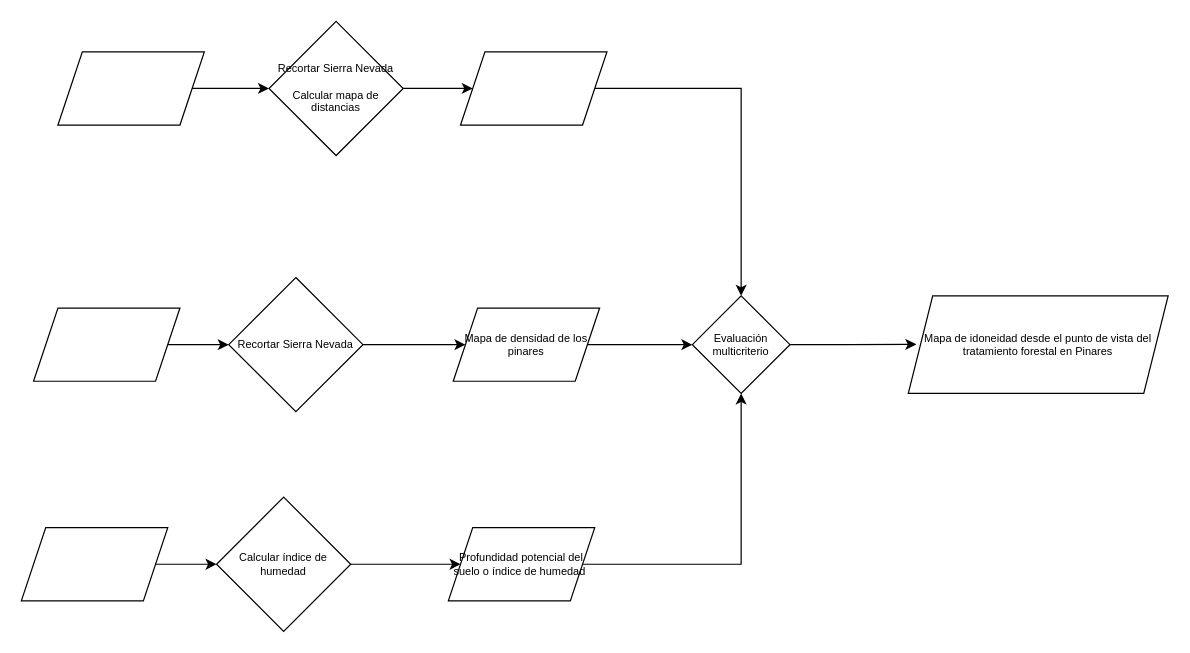
This 1190x653 diagram has some shape labels left out. Each missing label, with the centre of its shape:
"Mapa de densidad de los bosques de Europa" belongs at point 106,344.
"Mapa de distancias de pinares a manchas de vegetación natural" belongs at point 533,88.
"Mapa de usos y coberturas vegetales de Andalucía" belongs at point 130,88.
"Modelo digital de elevaciones" belongs at point 94,563.
